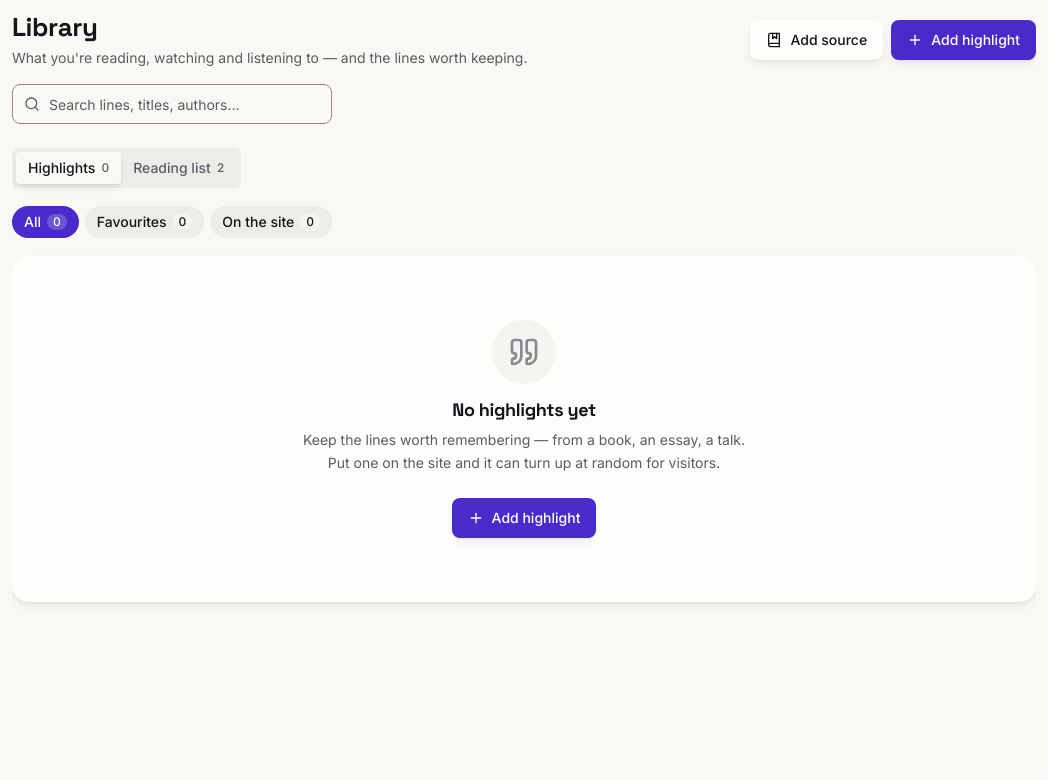
Test: LibraryPage — reading list › filters by status
Press the mouse on the tab "Reading list 2" at (179, 168), box top-left (121, 152), bottom-right (236, 184)
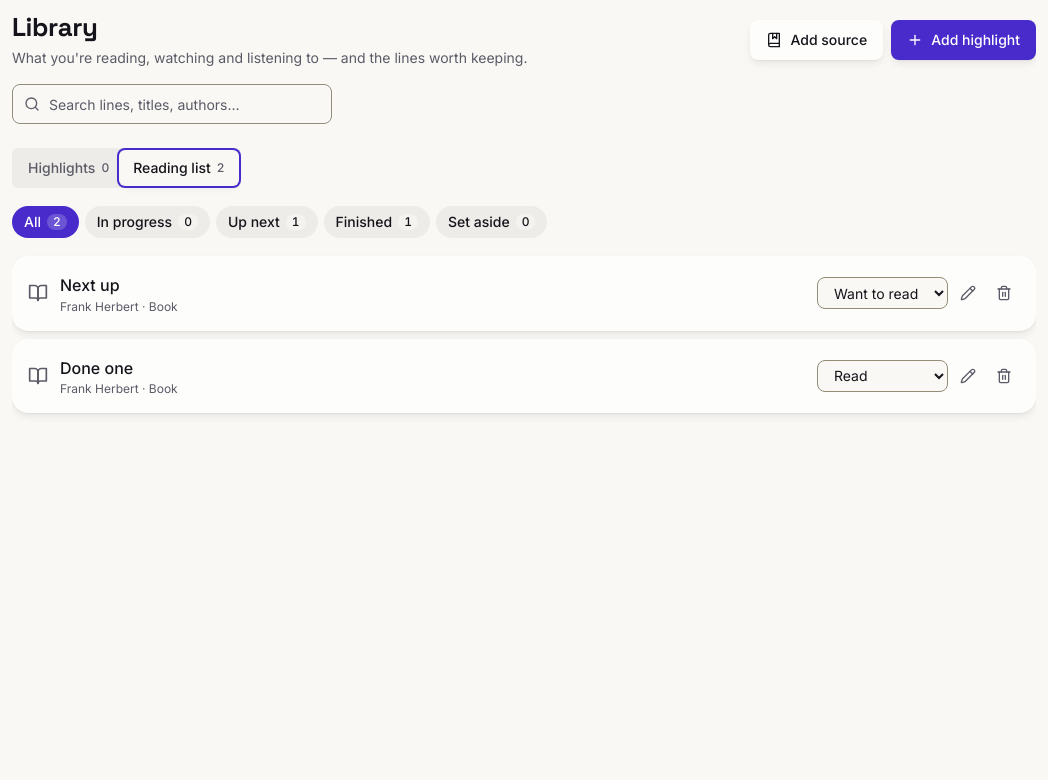
Click the button "Finished 1".
click(377, 222)  # box top-left (324, 206), bottom-right (430, 238)
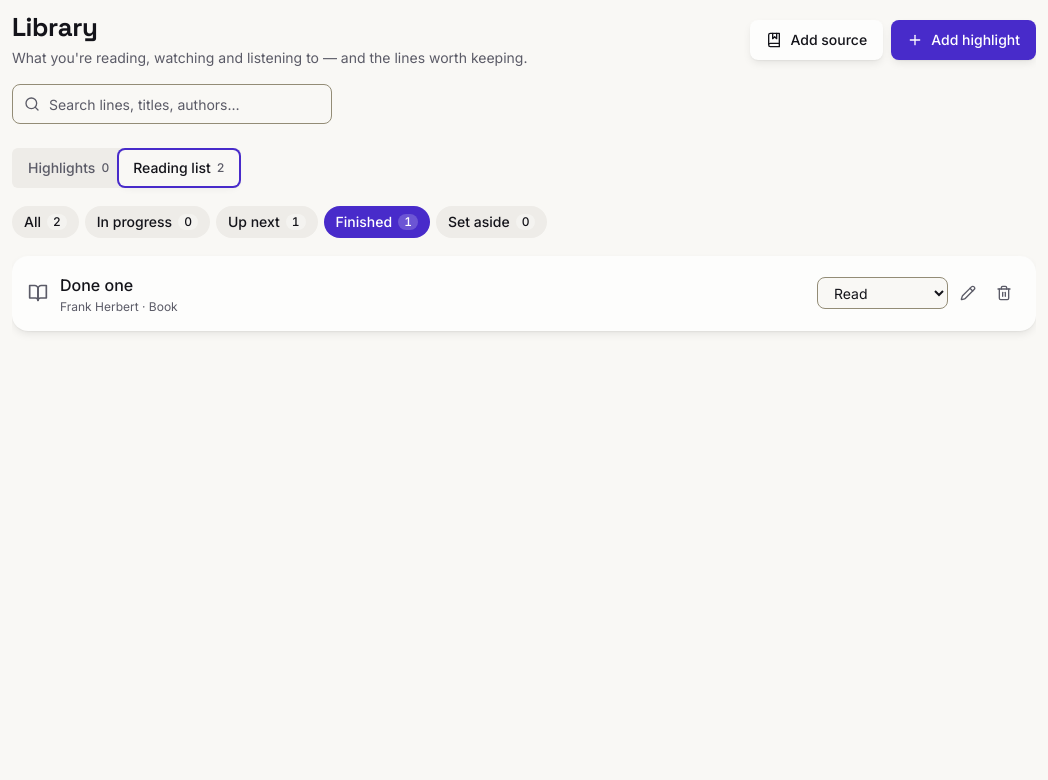
Expected: the text "Done one" is shown, top-left (60, 275), bottom-right (133, 295)
Expected: the button "Next up" is gone
